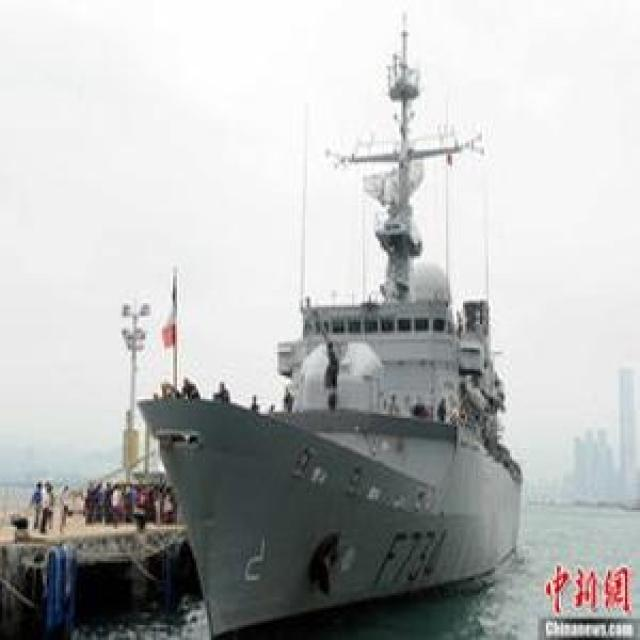navalvessels: (133, 16, 530, 639)
